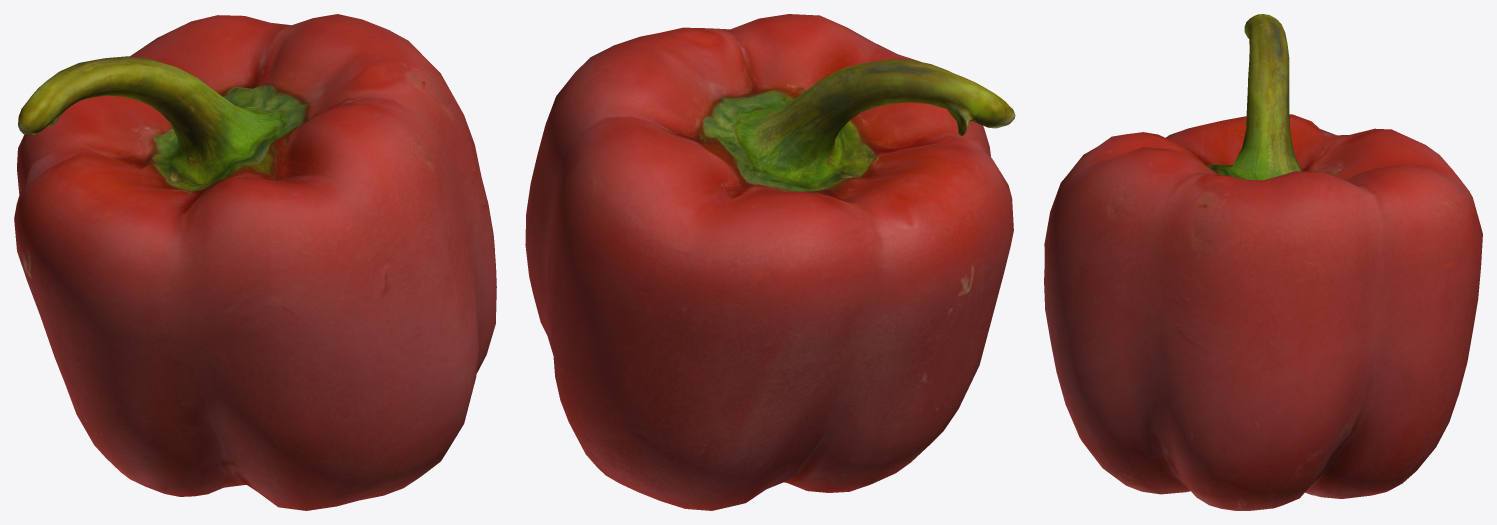
The picture shows the model from 3 angles, left to right: view 1: azimuth 30°, elevation 25°; view 2: azimuth 150°, elevation 25°; view 3: azimuth 270°, elevation 25°; orthographic projection. The views are drawn at different scales.
Parts seen in each view (by area): view 1: Retopo; view 2: Retopo; view 3: Retopo.
Part boxes in pixels (x1=…): Retopo: x1=14, y1=14, x2=496, y2=510; Retopo: x1=525, y1=14, x2=1015, y2=510; Retopo: x1=1044, y1=14, x2=1482, y2=510.
Bounding box in the file's own units: 91.59 × 83.44 × 86.82.
1 material, 1 textured.
